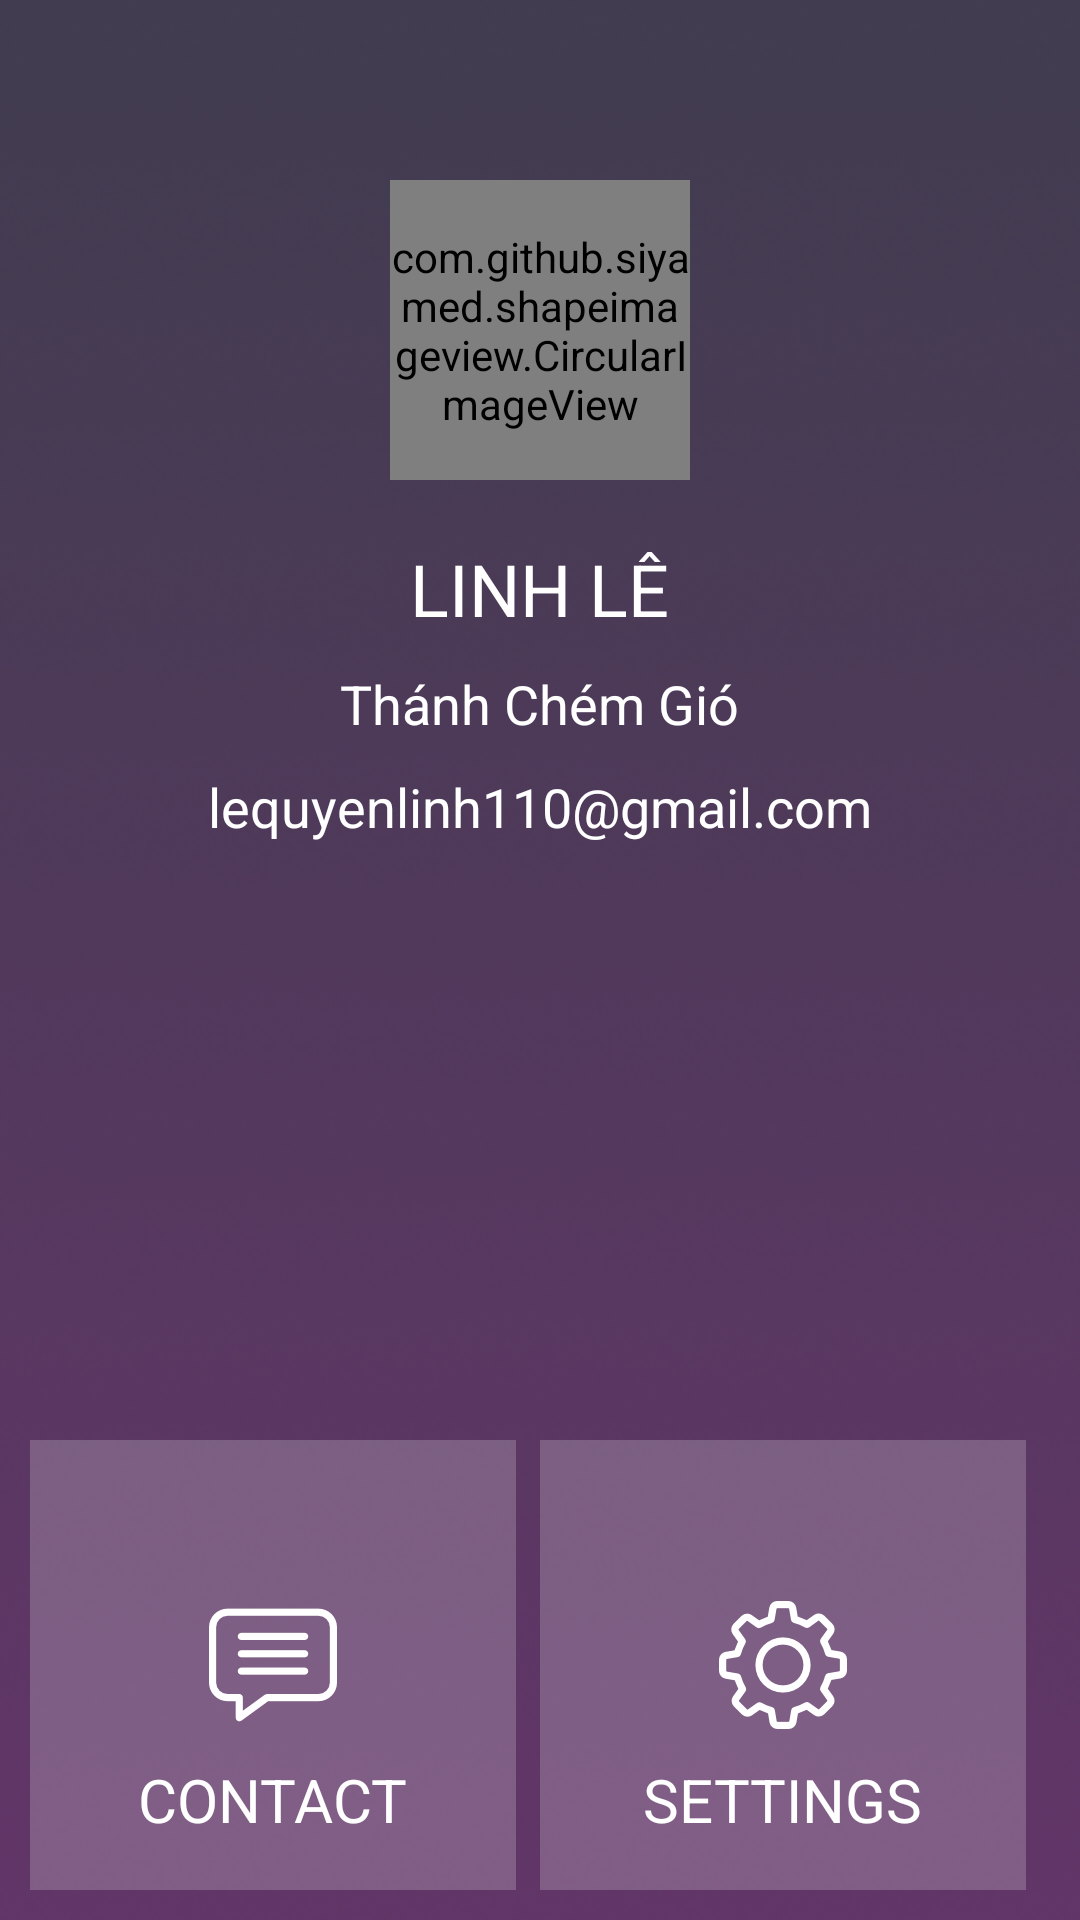

Screen size 1080×1920. Icon name, then its box in pixels as (x1, y1, x2, y2):
Setting icon: (719, 1601, 847, 1729)
